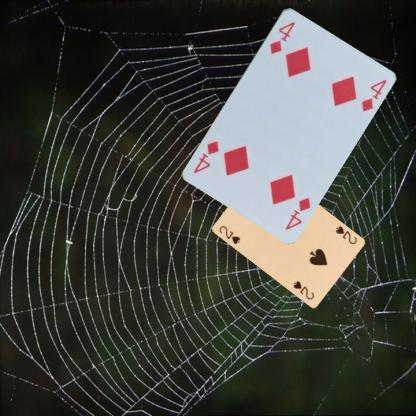2s: (216, 223, 241, 246), (333, 223, 358, 246)
4d: (267, 18, 296, 55), (283, 194, 312, 231)
